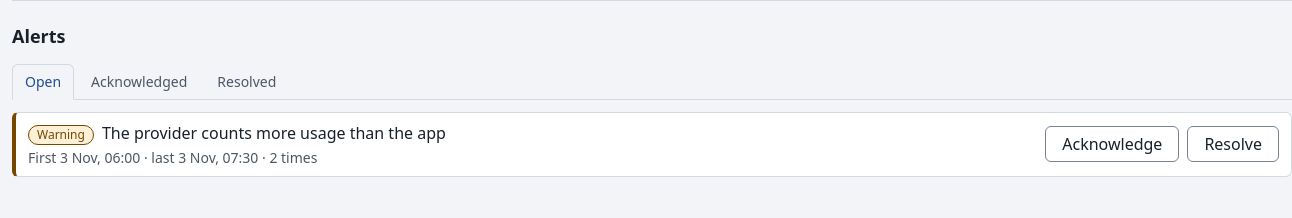
AlertsList › tabs filter by status and Ack moves an alert
Expected: the text "Warning" is shown, [28, 124, 94, 144]
Expected: the list item "The provider counts more usage than the app" shows "First 3 Nov, 06:00 · last 3 Nov, 07:30", [28, 148, 258, 166]
Click the tab "Acknowledged": (139,82) [78, 64, 200, 100]
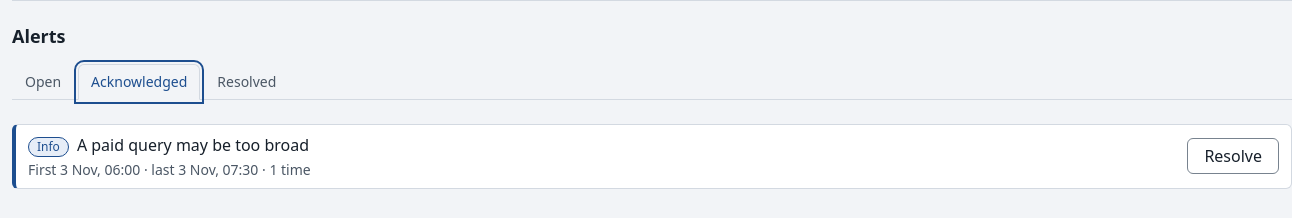
Expected: the text "A paid query may be too broad" is shown, [77, 132, 309, 156]
Expected: the text "The provider counts more usage than the app" is gone
Click the tab "Resolved": (247,82) [204, 64, 289, 100]
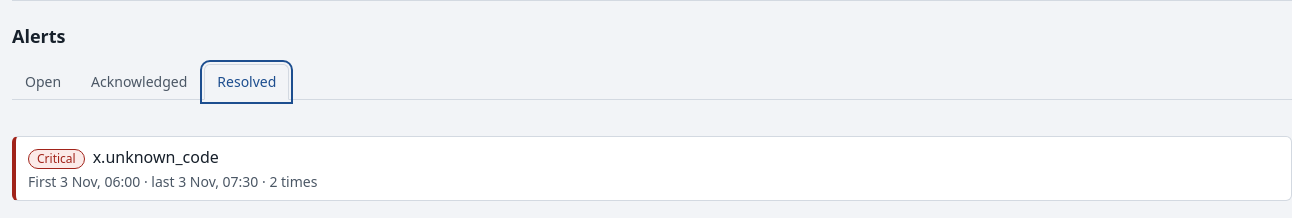
Expected: the text "x.unknown_code" is shown, [93, 144, 219, 168]
